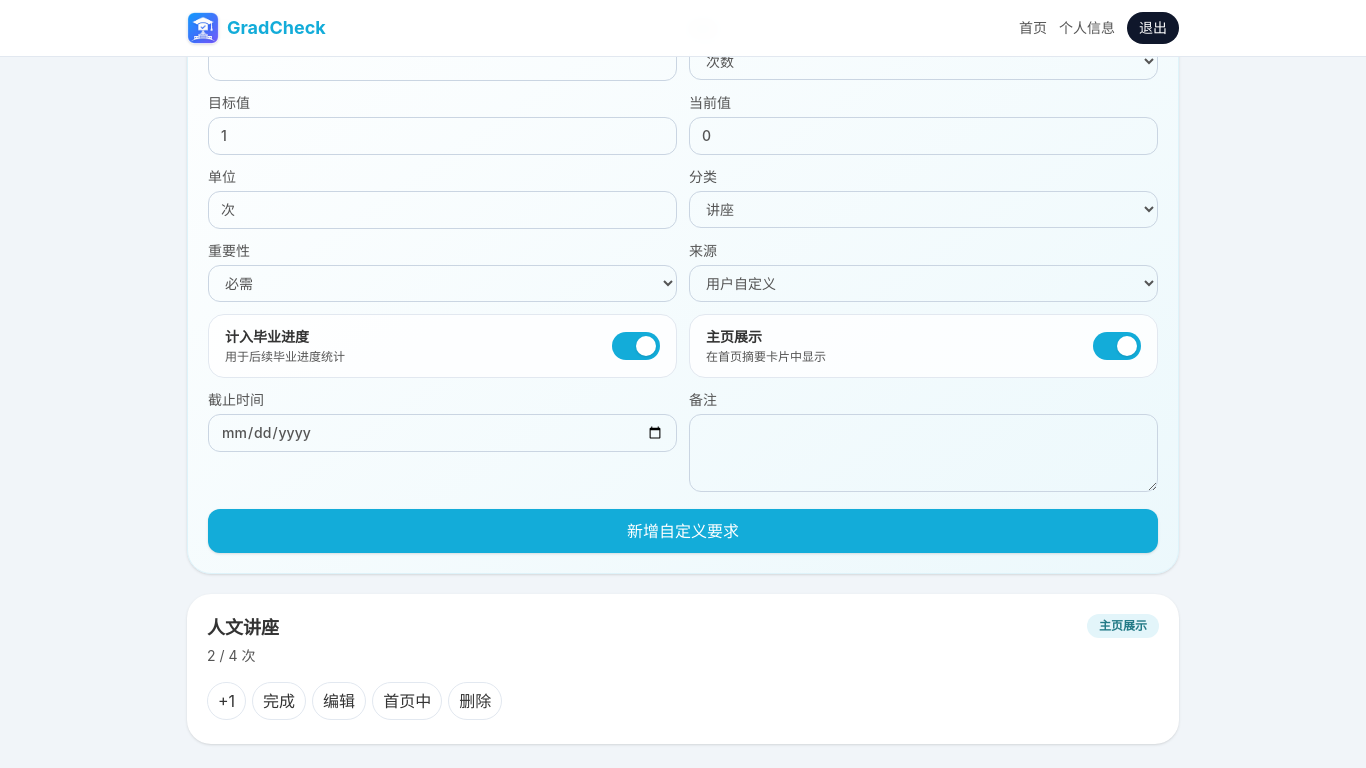
Test case: CustomRequirementsPage › loads an existing requirement into the form for editing
(page scrolled)
Click the button with test id "edit-requirement-1".
click(339, 701)  # box top-left (312, 682), bottom-right (366, 720)
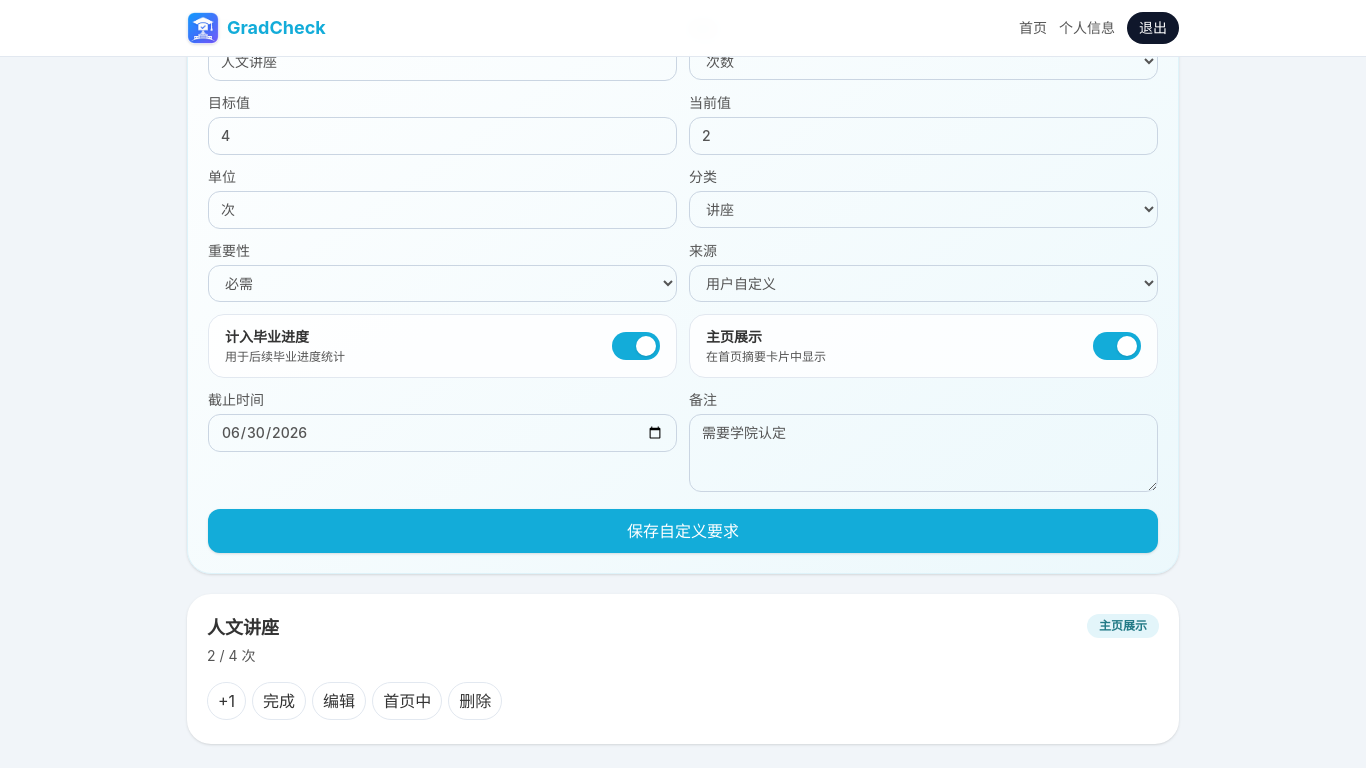
Expected: the field with test id "custom-requirement-name" holds "人文讲座", top-left (208, 43), bottom-right (677, 81)
Expected: the date field with test id "custom-requirement-deadline" holds "2026-06-30", top-left (208, 414), bottom-right (677, 452)
Expected: the text box with test id "custom-requirement-notes" holds "需要学院认定", top-left (689, 414), bottom-right (1158, 492)
